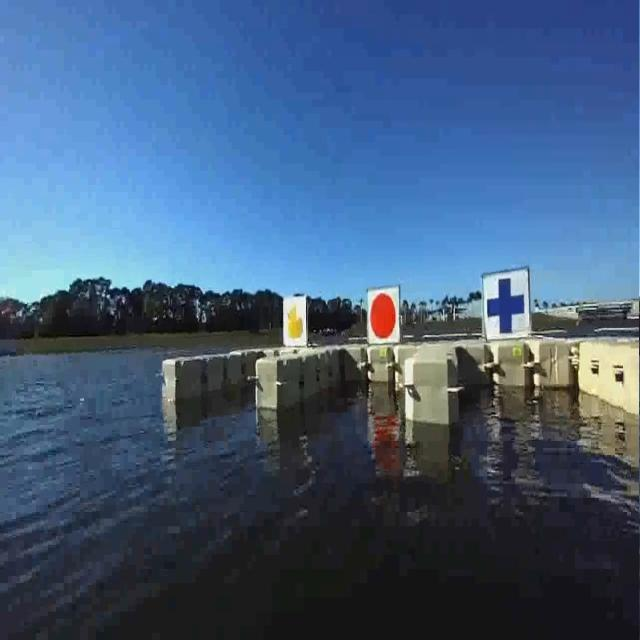blue-cross: (481, 270, 531, 334)
red-dot: (367, 286, 398, 341)
yellow-duck: (283, 299, 310, 341)
